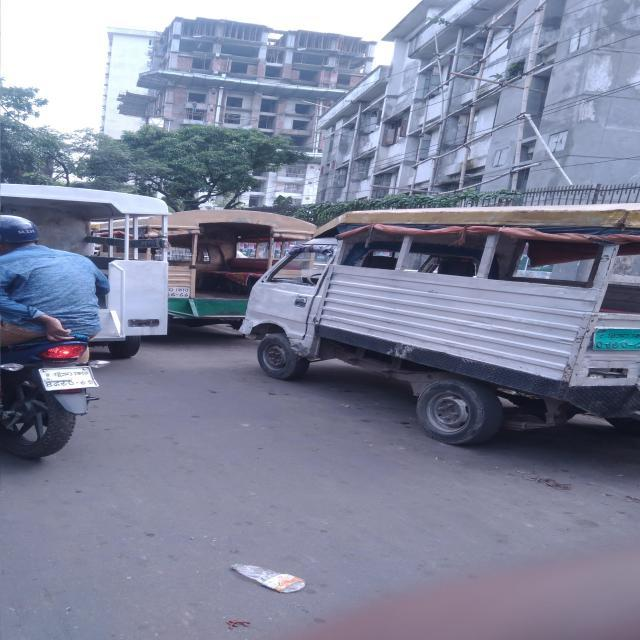Leguna: (226, 182, 640, 479), (78, 192, 327, 350), (1, 157, 189, 357)
Motorbike: (1, 217, 107, 497)
